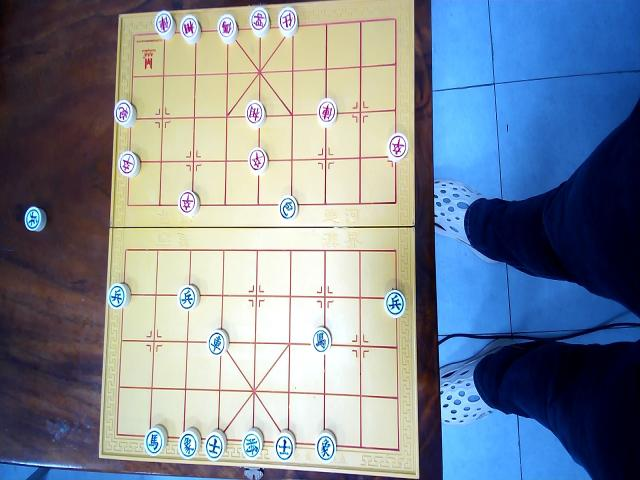piece: (204, 428, 226, 461), (179, 13, 201, 45), (144, 424, 166, 456), (216, 13, 238, 44), (386, 131, 408, 162), (178, 428, 200, 459), (114, 98, 136, 128), (316, 98, 338, 128), (278, 5, 298, 38), (274, 430, 294, 462), (316, 430, 336, 462), (384, 288, 406, 317), (153, 8, 174, 38), (250, 7, 270, 38), (242, 428, 262, 459), (118, 150, 140, 178), (108, 282, 130, 310), (24, 205, 46, 232), (245, 99, 265, 128), (208, 327, 228, 356), (247, 146, 267, 174), (178, 189, 198, 217), (278, 194, 298, 221), (178, 284, 198, 311), (311, 326, 331, 353)
